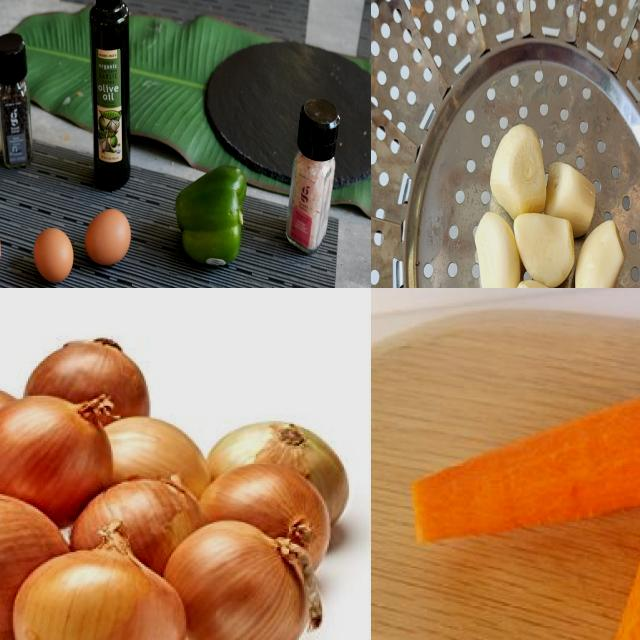bell_pepper: (1, 35, 38, 169)
carrot: (413, 377, 640, 545)
egg: (84, 208, 143, 274), (31, 224, 84, 289)
garlic: (447, 123, 626, 289)
onion: (17, 521, 186, 640), (167, 523, 311, 640), (208, 420, 350, 536), (203, 462, 335, 584), (1, 390, 113, 524), (67, 477, 205, 573), (22, 342, 152, 427), (1, 491, 69, 640)
